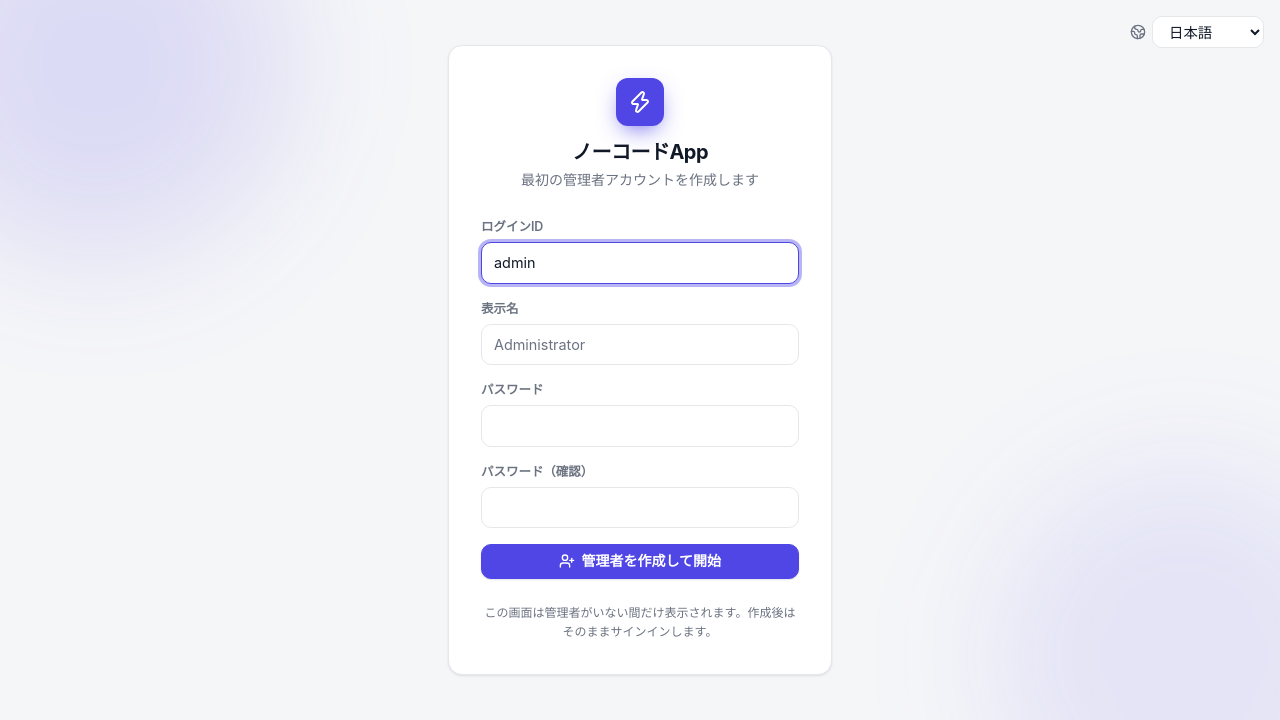
Test case: Setup › 確認用パスワードが違う場合は送信しない
Type "strong-password" into the password field named "パスワード" at (640, 426), box [481,405,799,447]
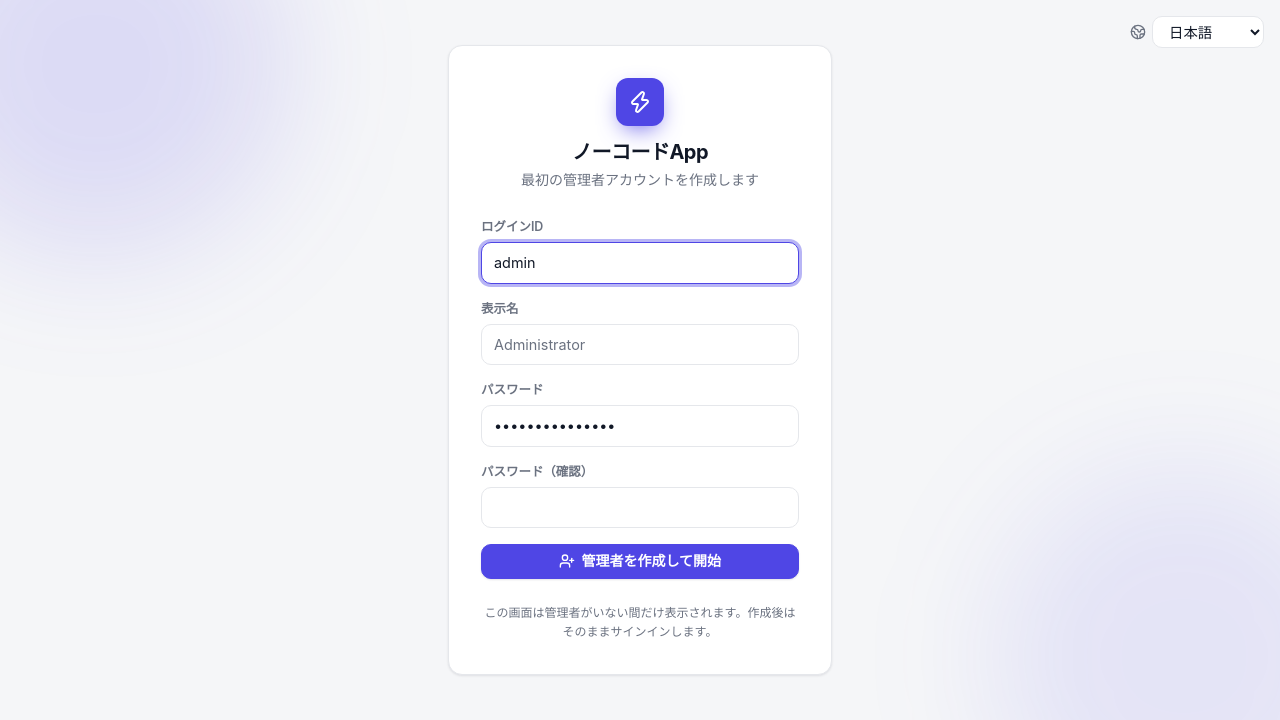
Type "typo-password" into the password field named "パスワード（確認）" at (640, 508), box [481,487,799,528]
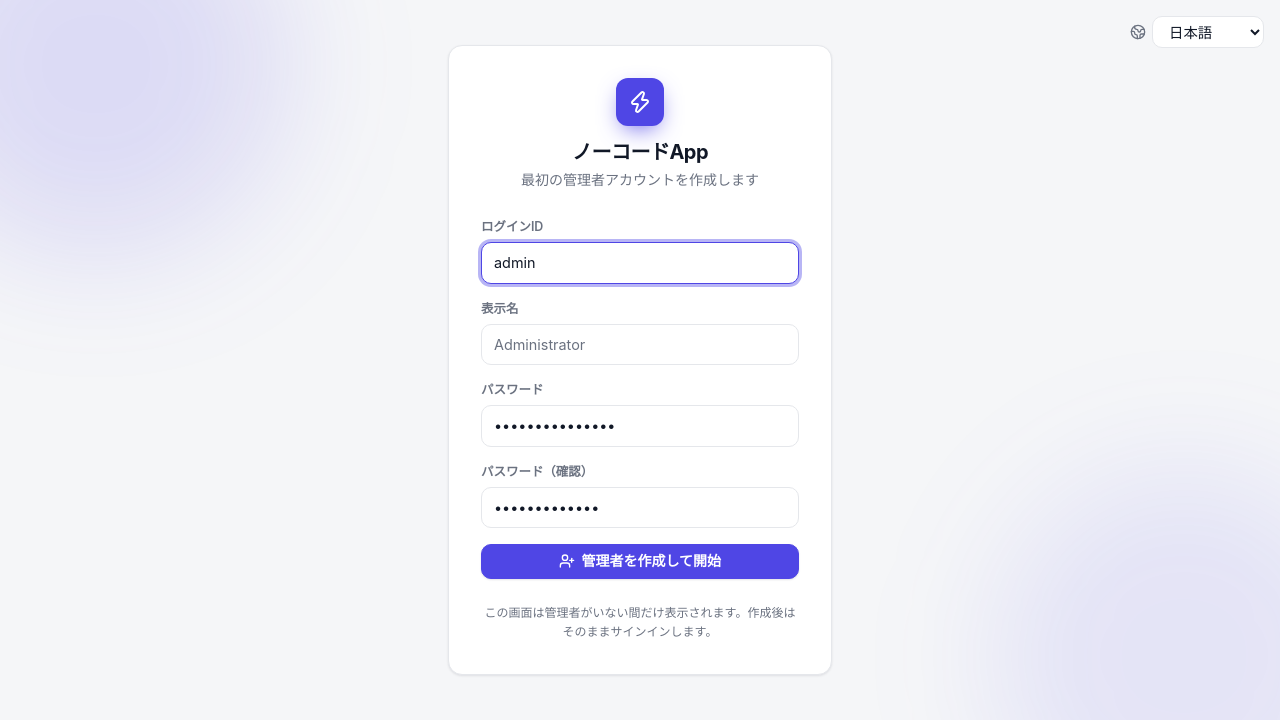
Click the button "管理者を作成して開始" at (640, 562), box [481,544,799,579]
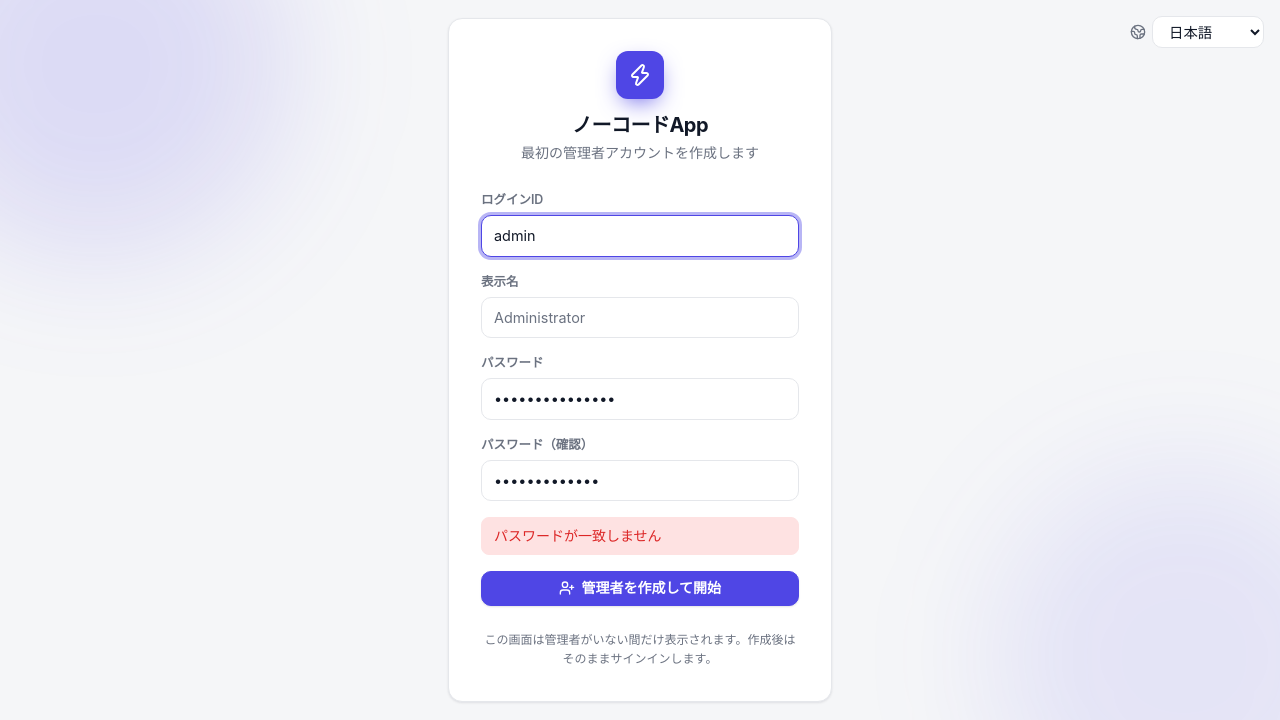
Now the text "パスワードが一致しません" is shown, box [481,517,799,555]
